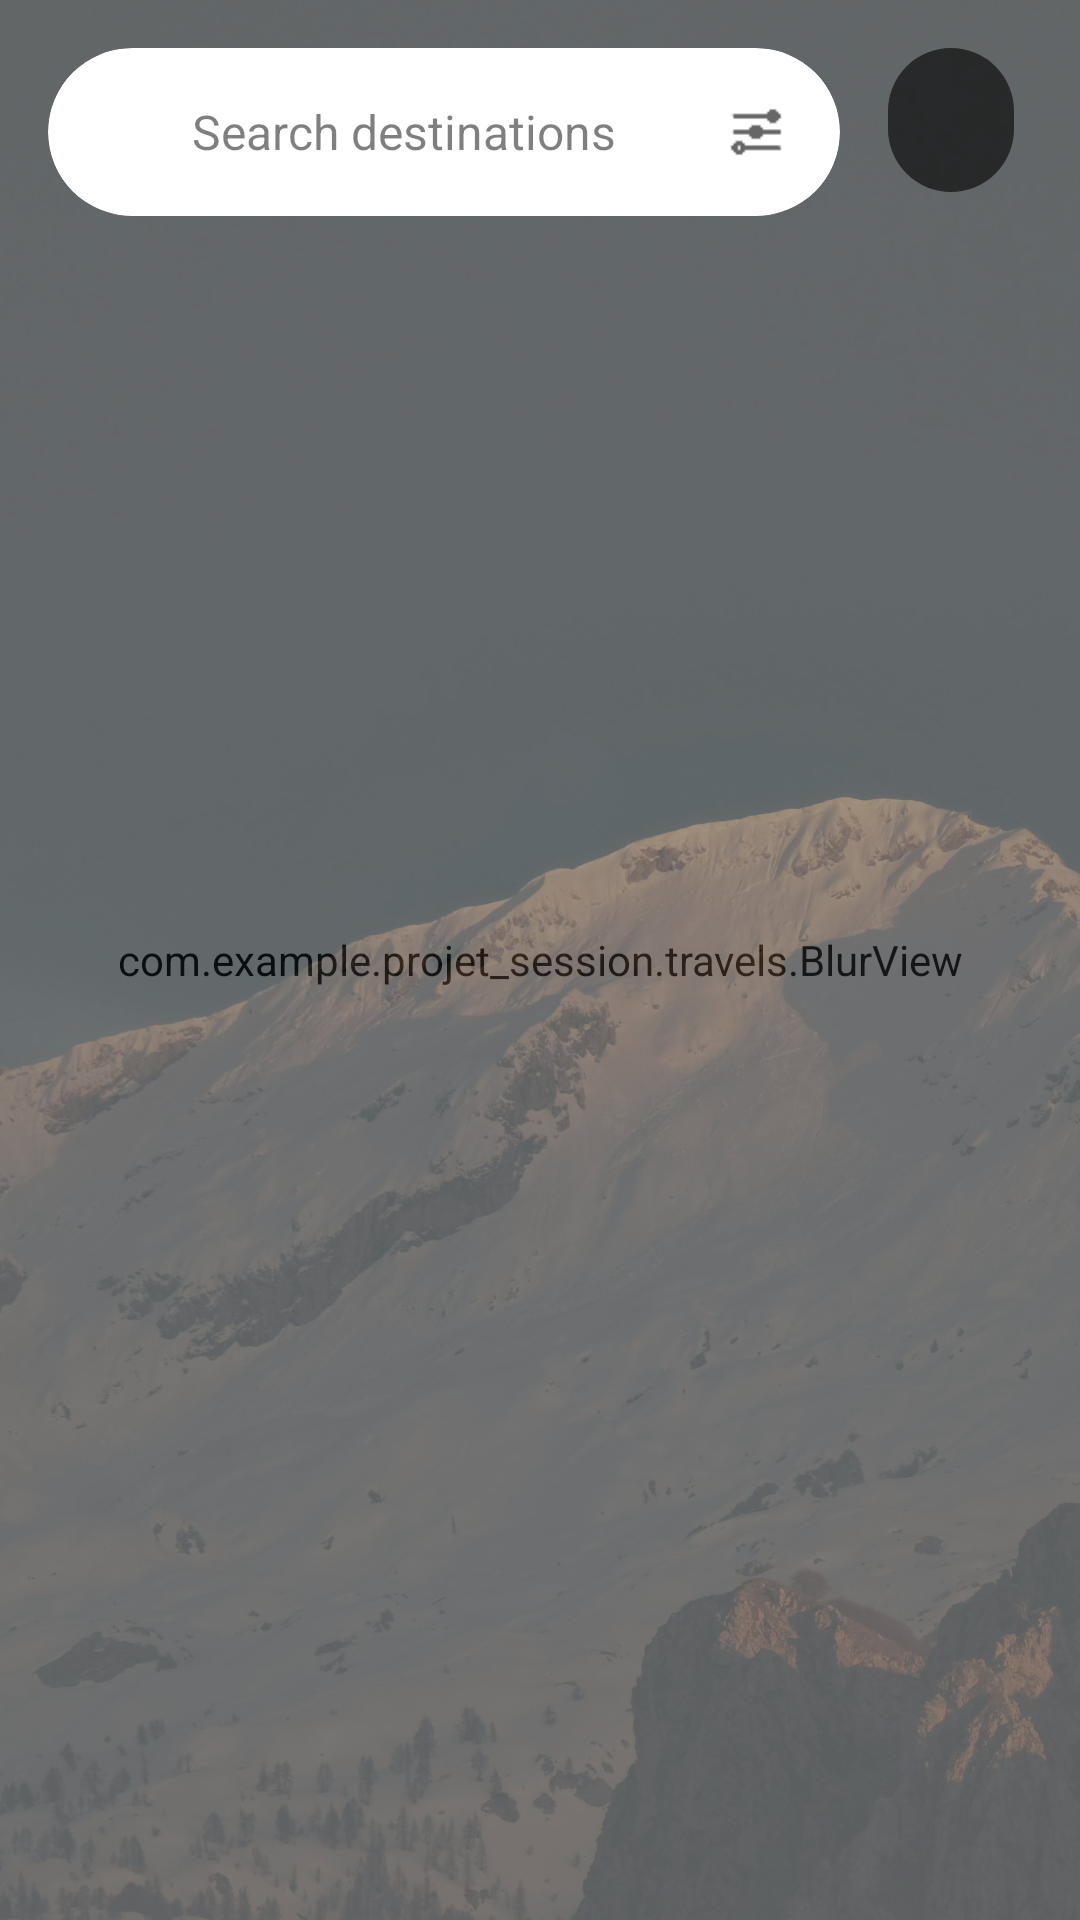

Screen size 1080*1920. Icon name, then its center in pixels as (x,y):
filter: (756,132)
